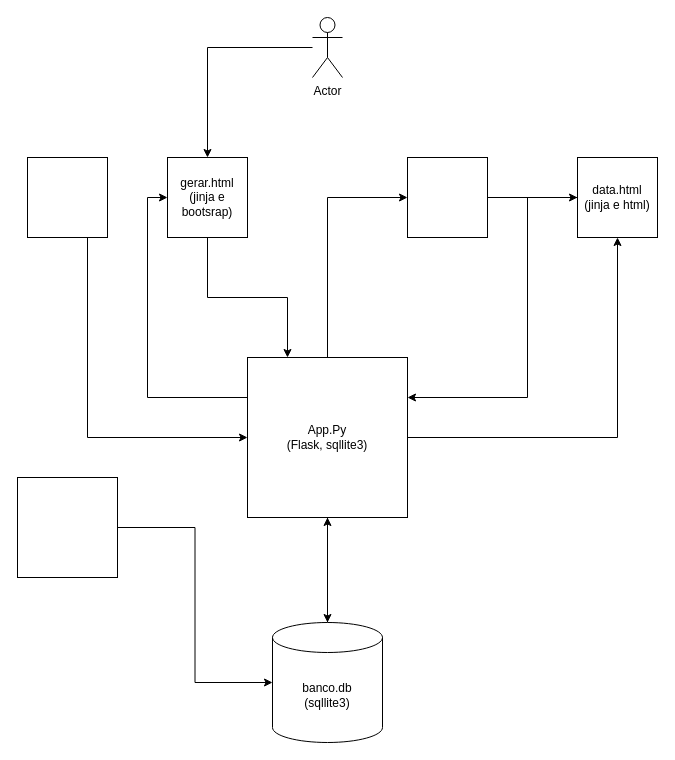
Image size: 675x760. Some labels were removed from this diagram. The shapes that lost their labels are listed below. From the top down, each one's box as (x1, y1, x2, y2) in pixels, then its label:
(26, 156, 108, 238): index.html (jinja e bootsrap)
(406, 156, 488, 238): url.html (jinja e bootsrap)
(16, 476, 118, 578): init_db.py
